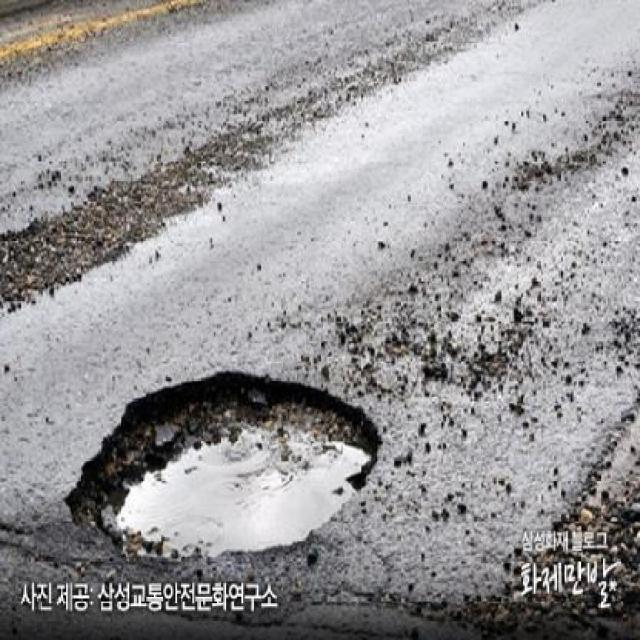Buraco: (55, 367, 392, 568)
